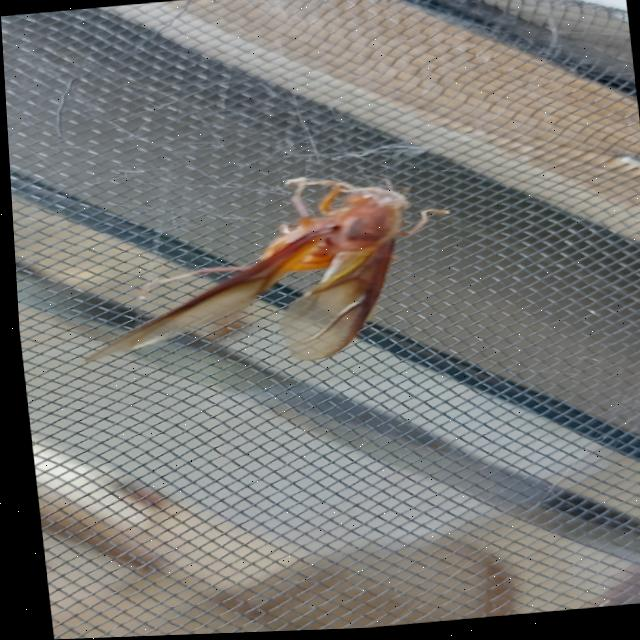Dead-Male-Alate: (64, 166, 463, 381)
